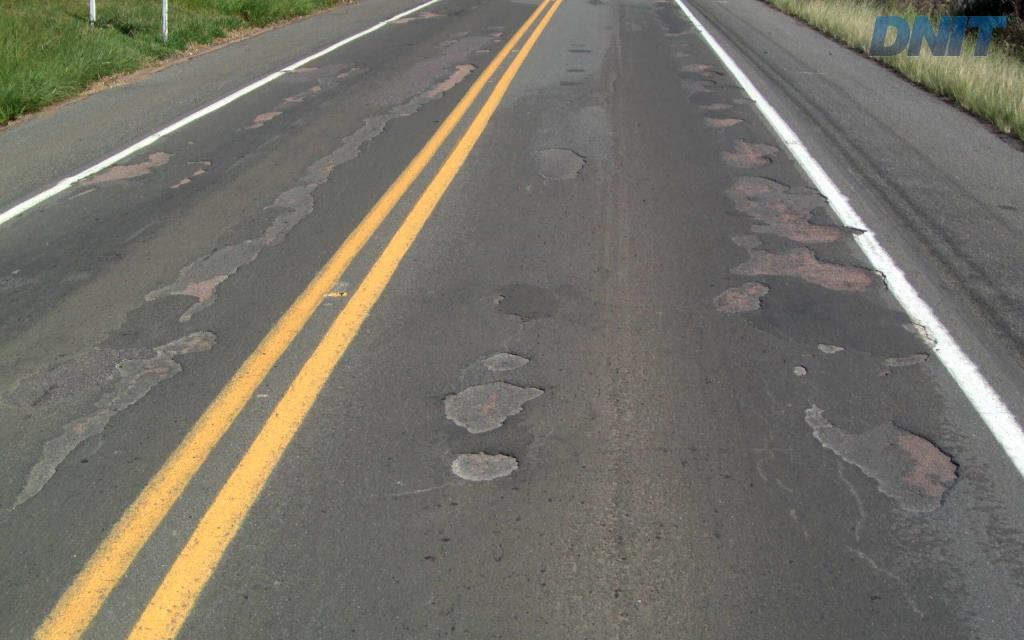pothole: (703, 172, 894, 324), (793, 394, 976, 522), (430, 378, 548, 433), (443, 447, 533, 481), (529, 145, 594, 190), (711, 134, 780, 167), (473, 347, 538, 376), (876, 348, 934, 369), (779, 355, 812, 380), (699, 114, 750, 130), (689, 70, 726, 91), (809, 339, 847, 357), (486, 290, 510, 308)
